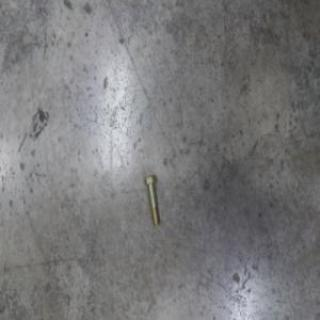Bolttrack_idkeyframe: (142, 172, 158, 226)
